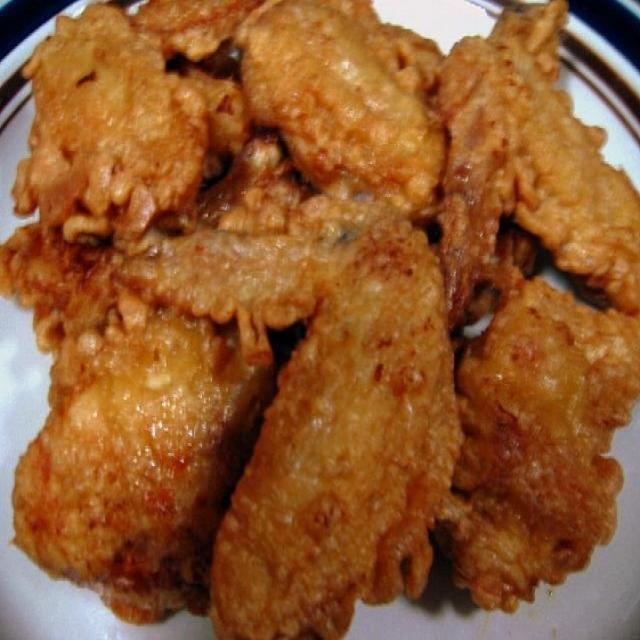Deep fried chicken wing: (16, 23, 624, 614)
